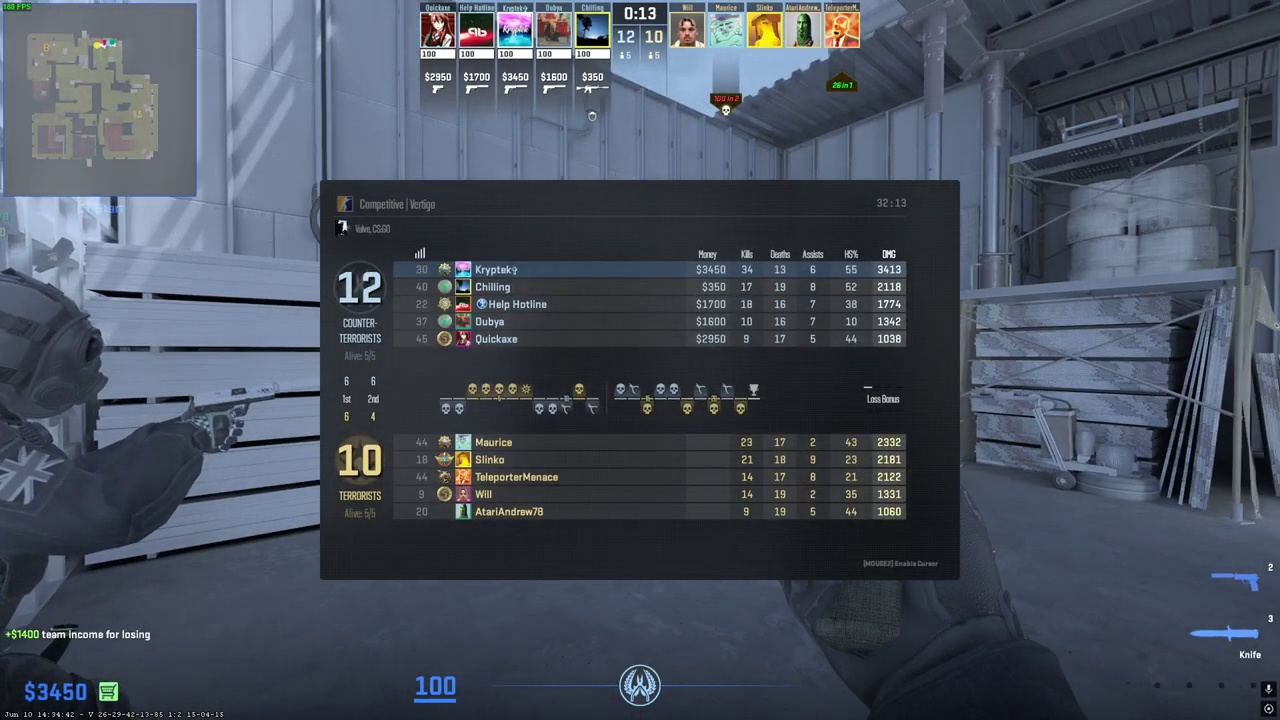CT: (0, 274, 137, 720)
